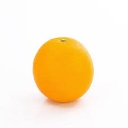orange: (30, 36, 97, 106)
